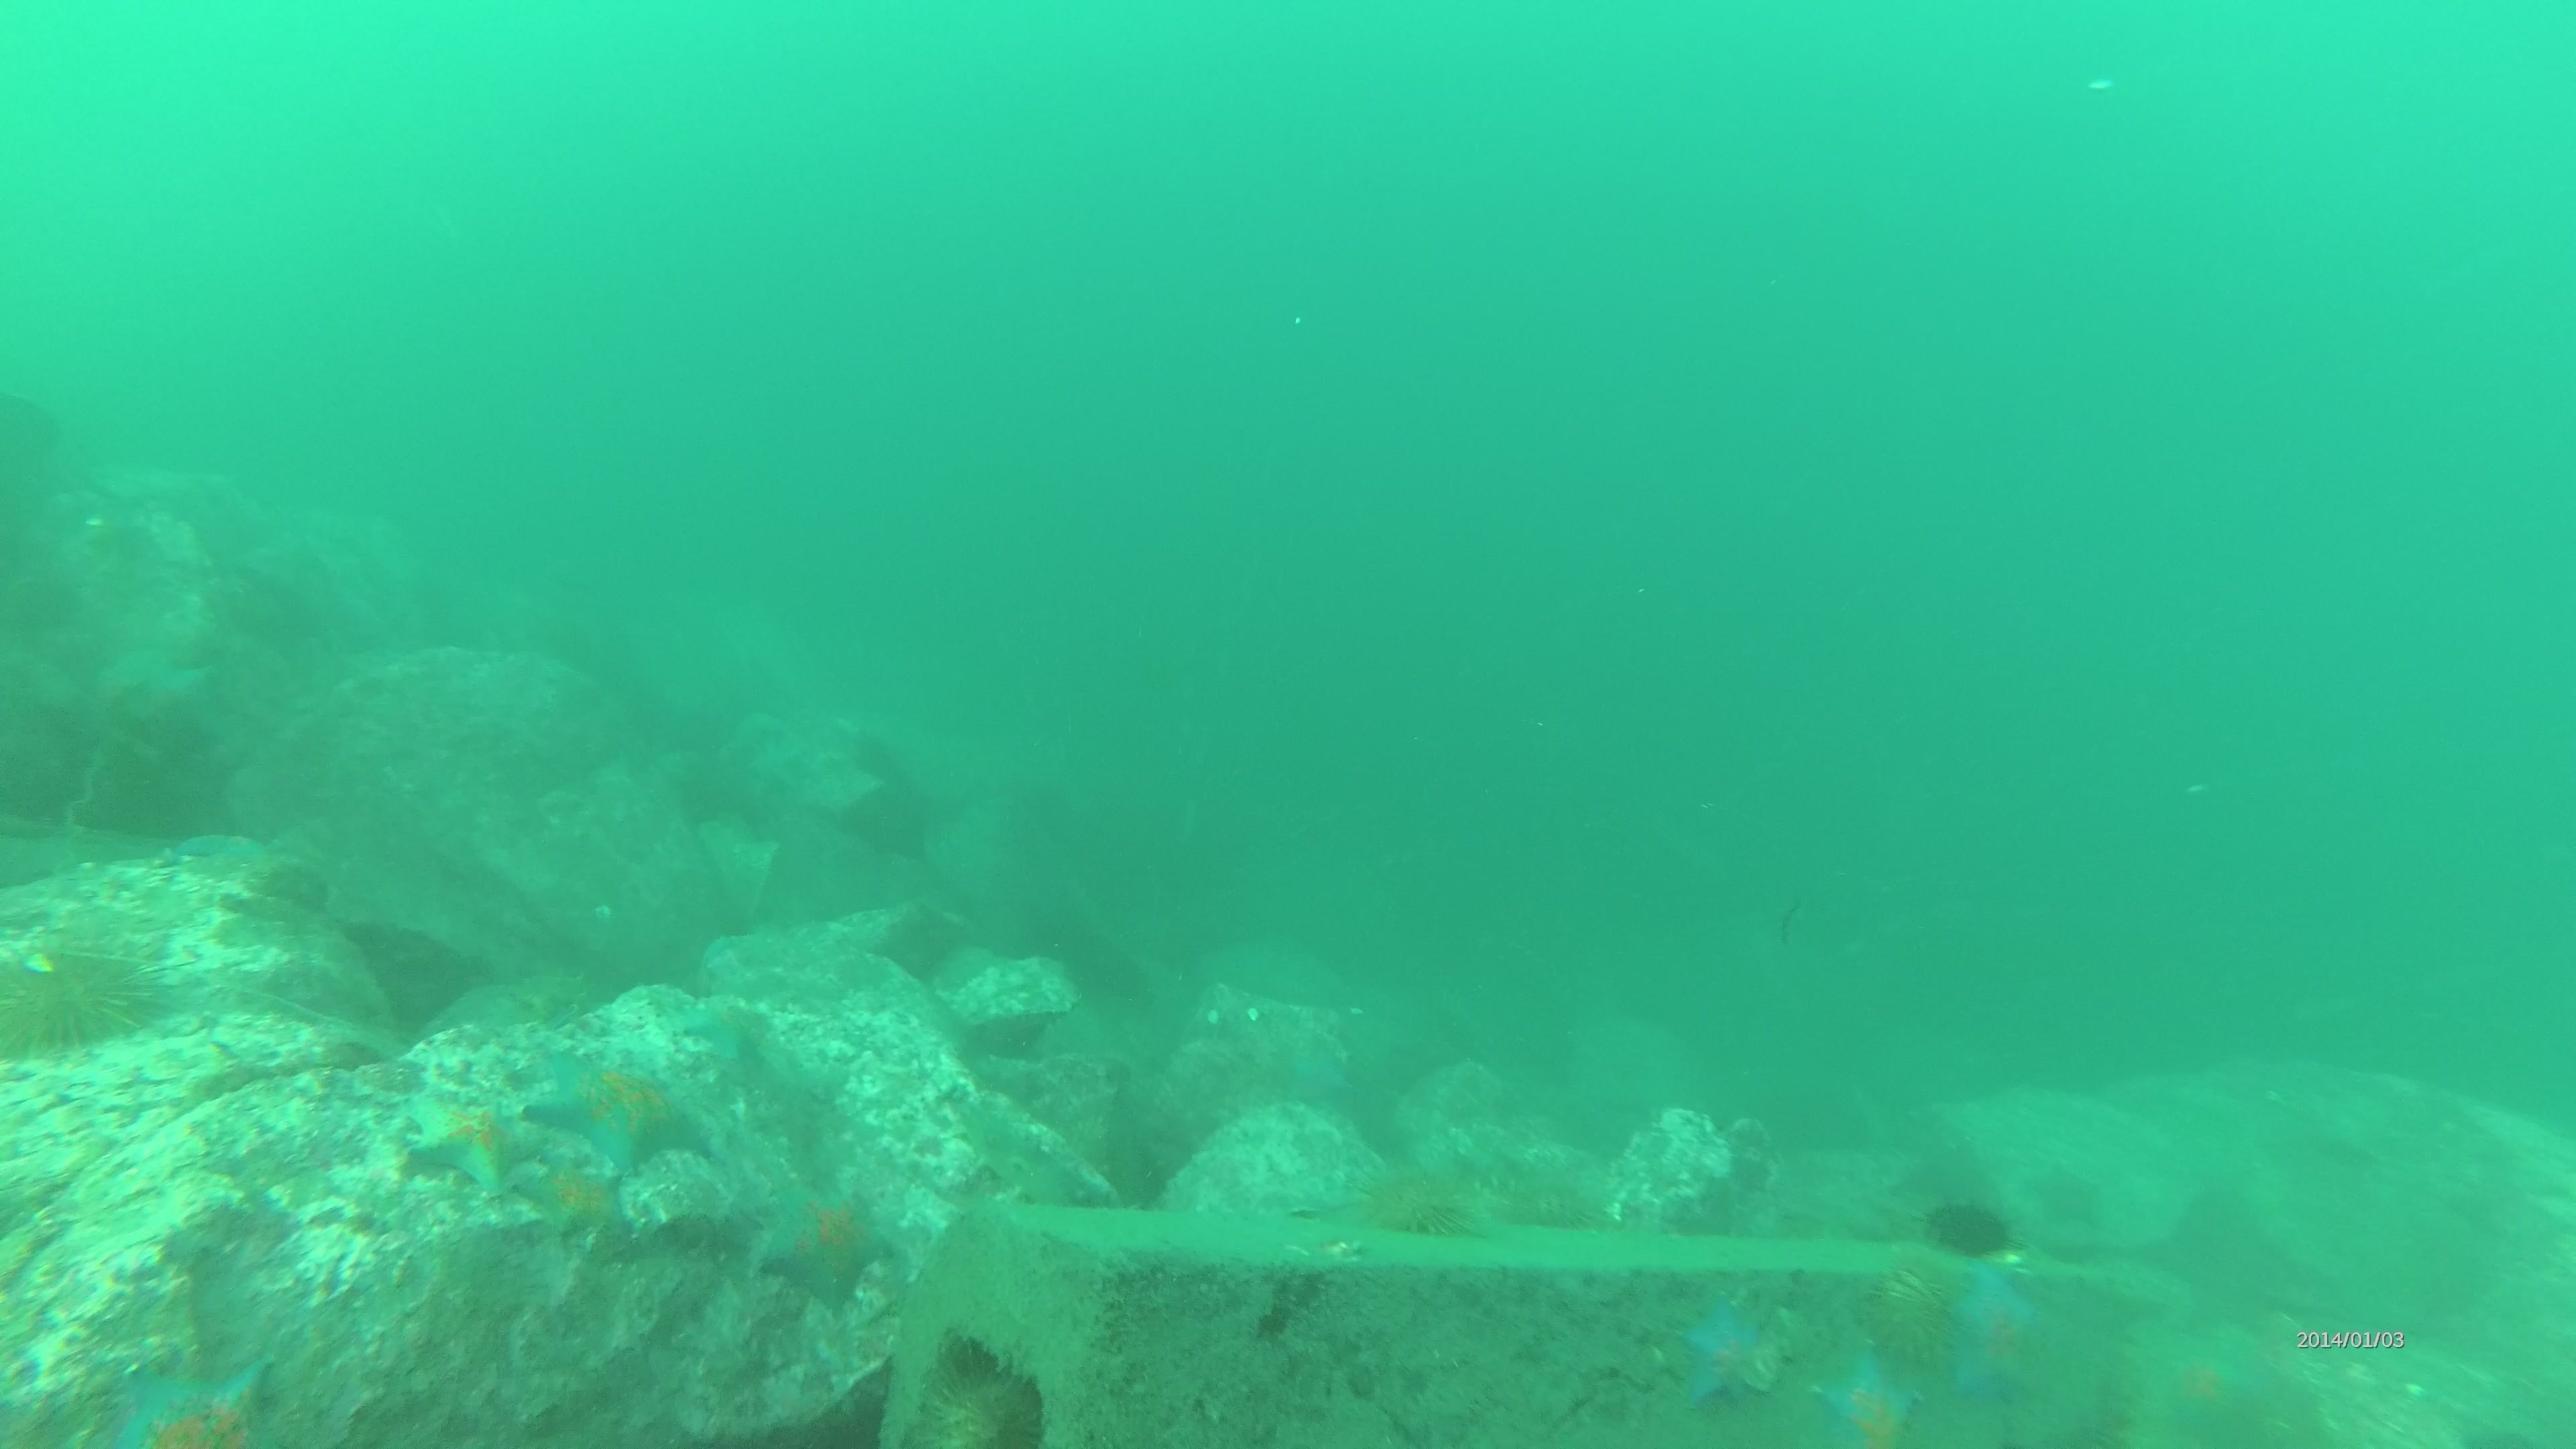echinus: (2, 927, 163, 1063), (1350, 1152, 1490, 1244), (1858, 1263, 1971, 1373), (876, 897, 971, 984), (1921, 1187, 2019, 1263), (1500, 1161, 1585, 1228)
starfish: (522, 1042, 715, 1178), (748, 1171, 897, 1306), (396, 1077, 541, 1200), (103, 1346, 280, 1442), (2132, 1330, 2279, 1445), (1667, 1293, 1785, 1414), (1946, 1265, 2047, 1403), (511, 1152, 628, 1246), (1812, 1350, 1923, 1444), (674, 991, 778, 1072), (156, 828, 260, 865), (1288, 1054, 1355, 1109)
